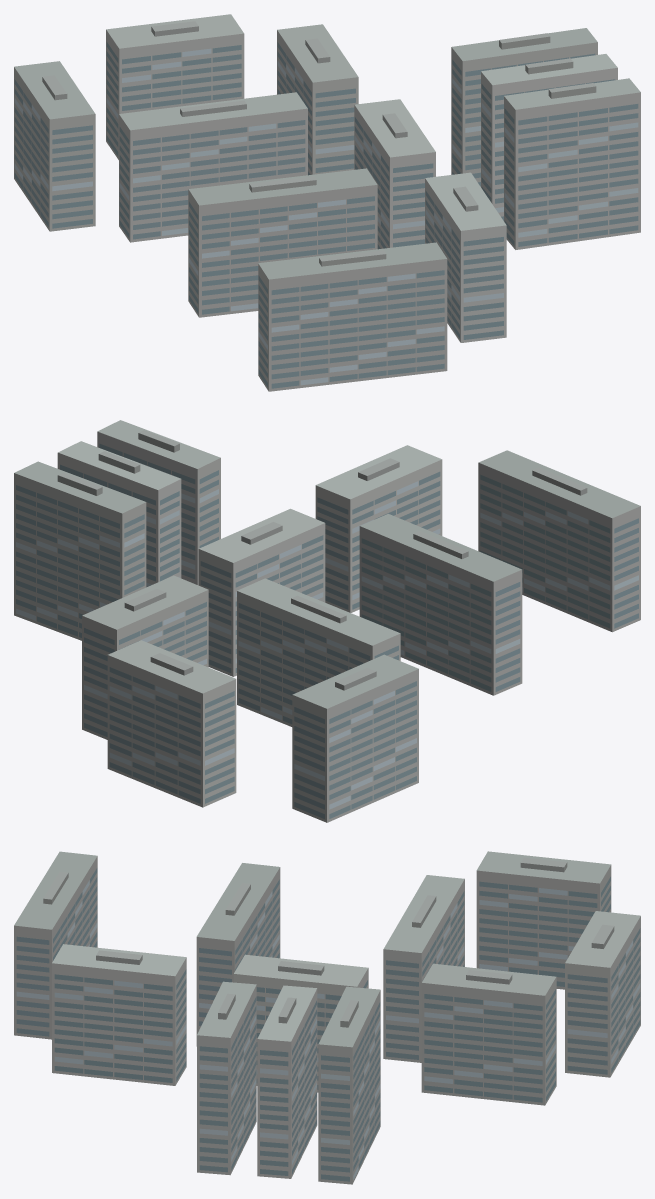
The model's file is apt-a13010003.glb.
3 views of the same model, one above another, from view 1: azimuth 30°, elevation 25°; view 2: azimuth 150°, elevation 25°; view 3: azimuth 270°, elevation 25° (orthographic). The views are drawn at different scales.
Parts seen in each view (by area): view 1: apt-a13010003; view 2: apt-a13010003; view 3: apt-a13010003.
Part boxes in pixels (x1=…): apt-a13010003: x1=14, y1=14, x2=640, y2=391; apt-a13010003: x1=14, y1=420, x2=640, y2=822; apt-a13010003: x1=14, y1=851, x2=640, y2=1184.
Bounding box in the file's own units: 160 × 47.81 × 189.
